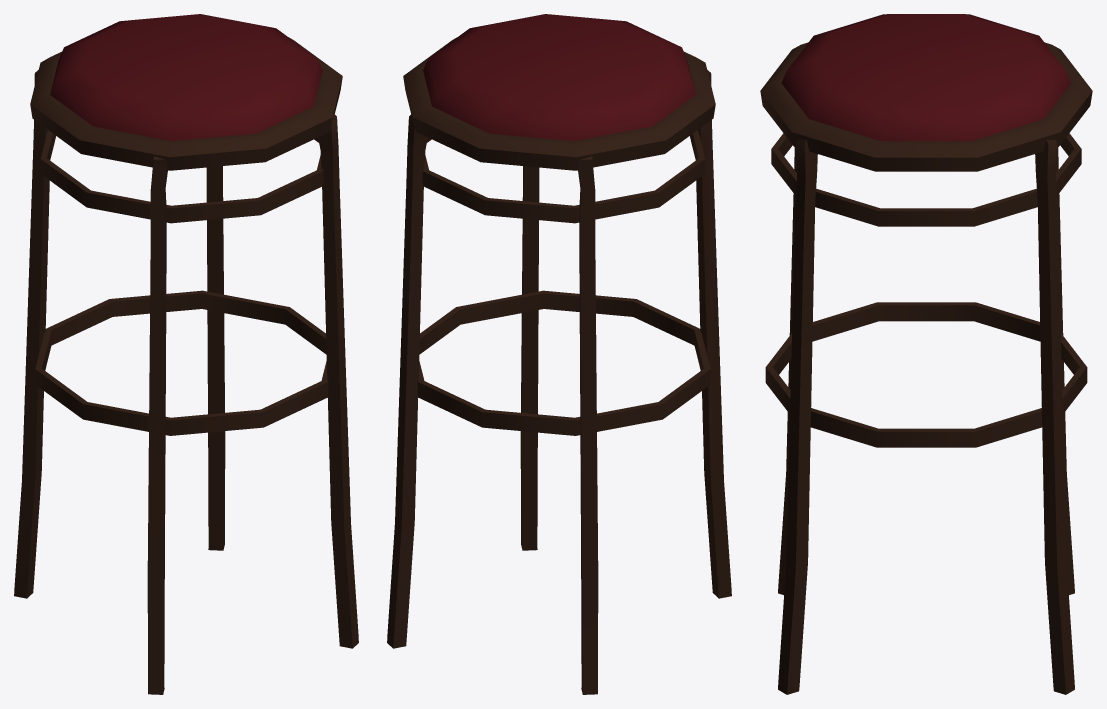
The model's file is stool.glb.
3 renders of one model, left to right at view 1: azimuth 30°, elevation 25°; view 2: azimuth 150°, elevation 25°; view 3: azimuth 270°, elevation 25°, orthographic. The views are drawn at different scales.
Parts seen in each view (by area): view 1: Stool; view 2: Stool; view 3: Stool.
Part boxes in pixels (x1=…): Stool: x1=14, y1=14, x2=358, y2=694; Stool: x1=387, y1=14, x2=731, y2=694; Stool: x1=760, y1=14, x2=1092, y2=694.
Size of the model in its own units: 0.6753 by 1.37 by 0.71.
